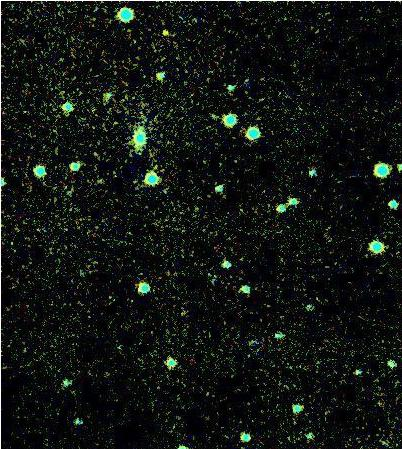star: (149, 16, 179, 46)
